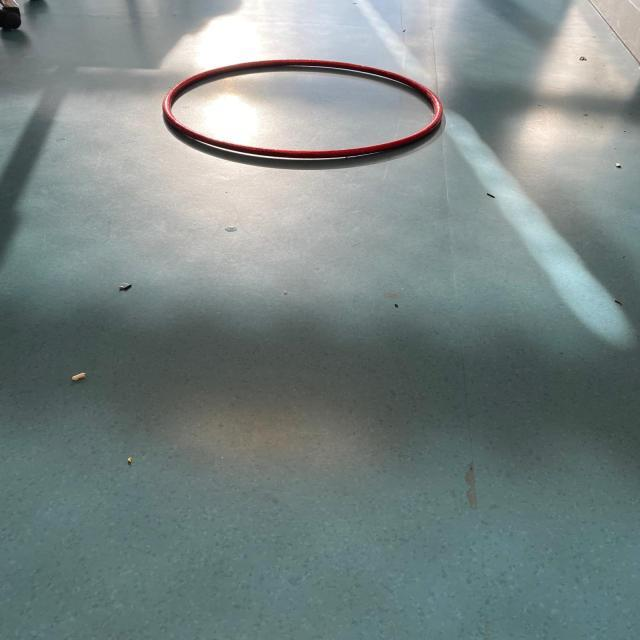Circle: (158, 54, 446, 160)
